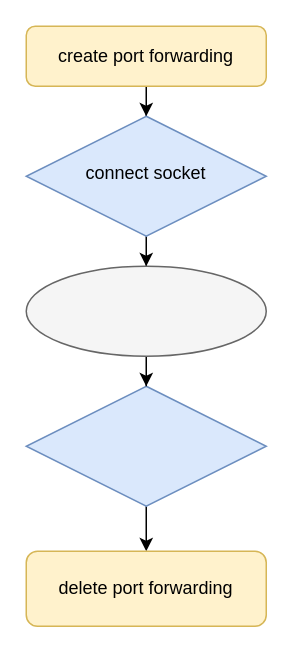
Some shapes in this 293 by 653 pixel diagram are drawn without their labels. Here are the shapes that lost their labels. From the top down, the centre of each, then its label:
At point 145,310: "application lifecycle".
At point 145,445: "disconnect socket".
